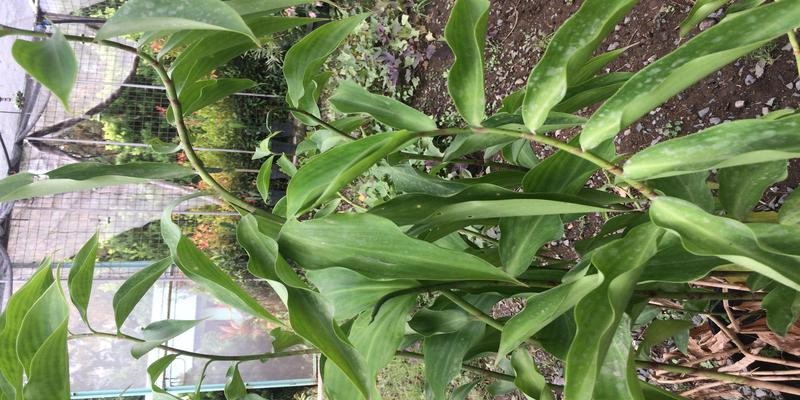Insulin: (220, 161, 789, 393)
